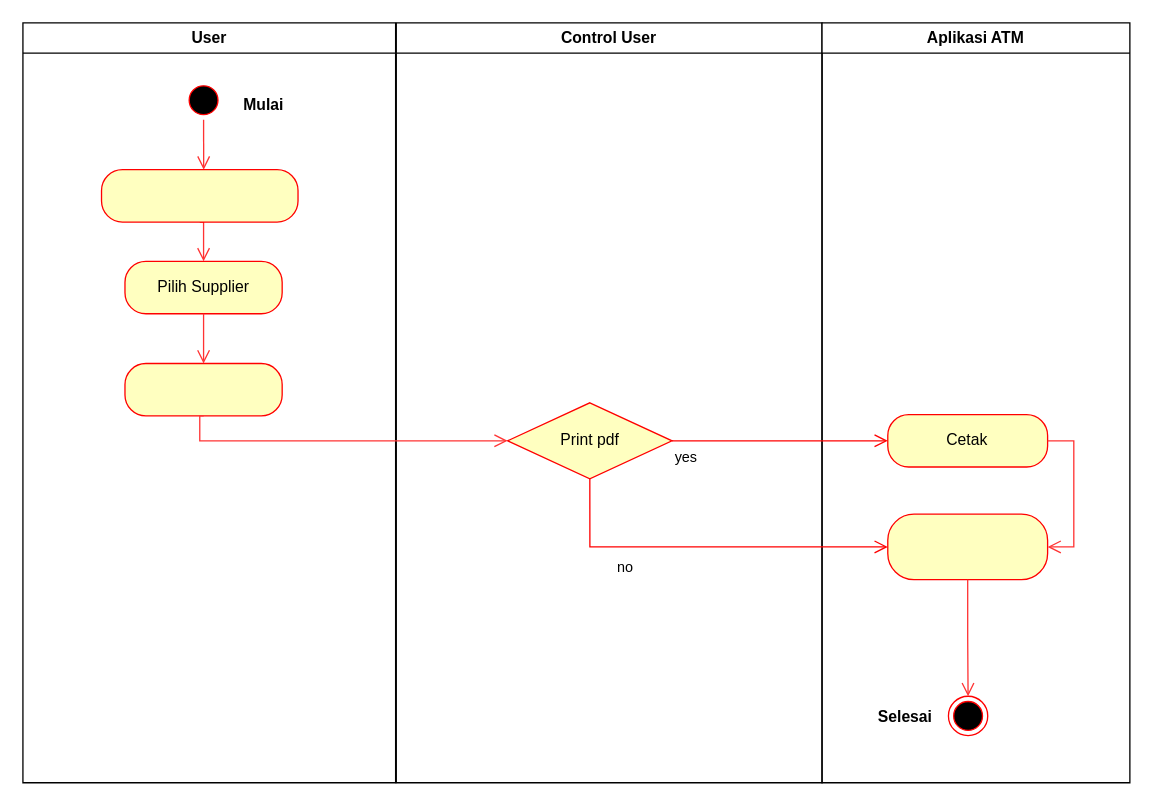
This 1153x806 diagram has some shape labels left out. Each missing label, with the centre of its shape:
Cetak Chart: point 203,389
Menu Donut Chart Material by Supplier: point 967,546
View Donut Chart Material by Supplier: point 199,195
